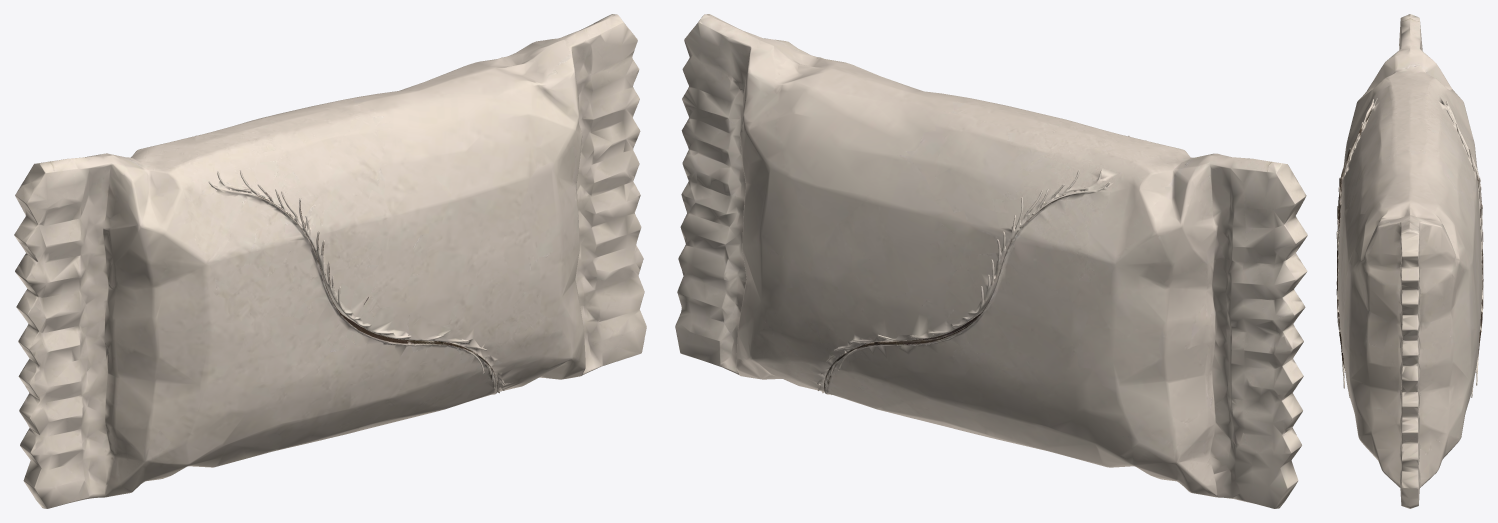
Rendered from pouch.glb.
The picture shows the model from 3 angles, left to right: view 1: azimuth 30°, elevation 25°; view 2: azimuth 150°, elevation 25°; view 3: azimuth 270°, elevation 25°; orthographic projection. The views are drawn at different scales.
Bounding box in the file's own units: 1.9 × 1.04 × 0.4925.
1 material, 1 textured.
